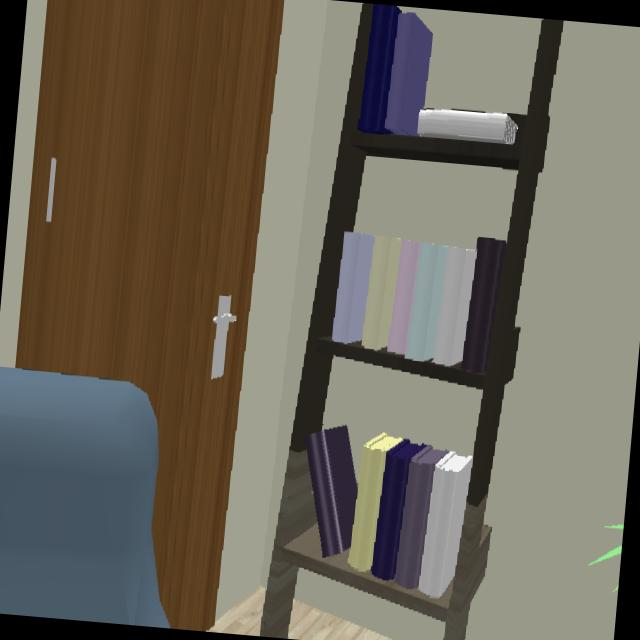book: (418, 452, 472, 597), (394, 445, 448, 588), (371, 440, 424, 579), (348, 432, 401, 570), (305, 426, 357, 556), (461, 237, 506, 372), (384, 13, 432, 135), (358, 3, 401, 132), (433, 246, 476, 365), (406, 242, 448, 360), (332, 232, 374, 342), (362, 236, 400, 348), (388, 240, 419, 353), (420, 108, 518, 143)
chair: (0, 367, 169, 627)
shelf: (260, 4, 558, 636), (512, 177, 534, 296)
